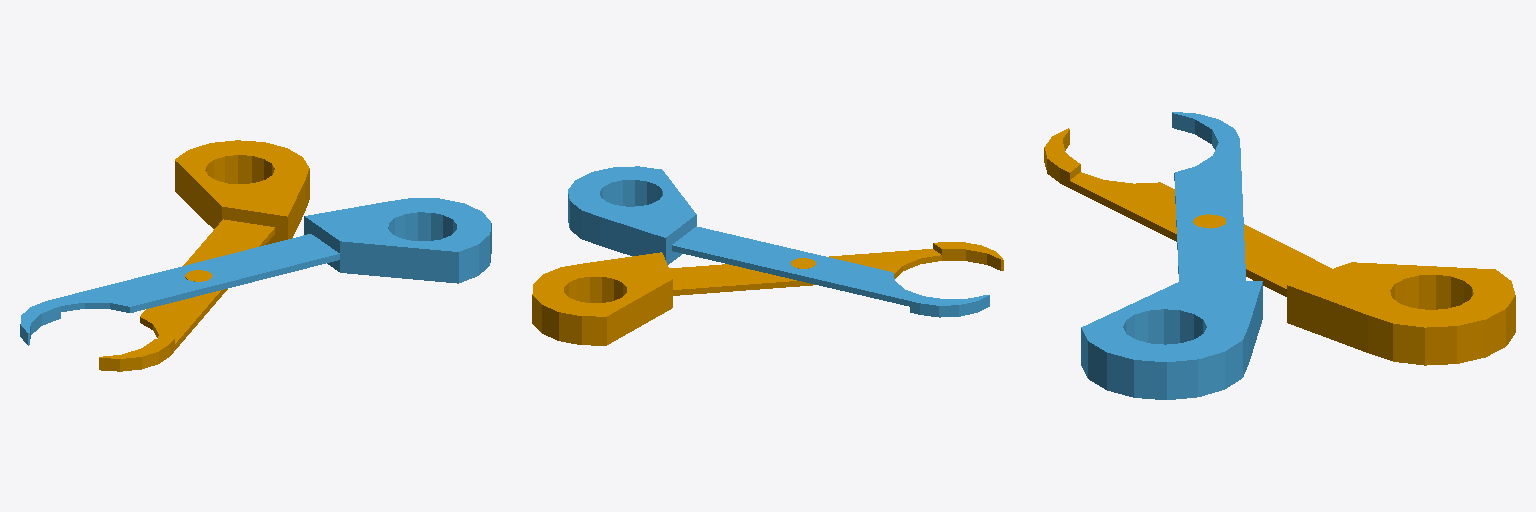
URDF robot description (scissor_11100):
<?xml version="1.0"?>
<robot name="scissor_11100">
  <link name="base_link">
    <inertial>
      <origin xyz="0 0 0" rpy="0 0 0"/>
      <mass value="1"/>
      <inertia ixx="0.001" ixy="0" ixz="0" iyy="0.001" iyz="0" izz="0.001"/>
    </inertial>
    <visual>
      <origin xyz="0 0 0" rpy="0 0 0"/>
      <geometry>
        <mesh filename="meshes/base_link.obj" scale="1 1 1"/>
      </geometry>
    </visual>
    <collision>
      <origin xyz="0 0 0" rpy="0 0 0"/>
      <geometry>
        <mesh filename="meshes/base_link.obj" scale="1 1 1"/>
      </geometry>
    </collision>
  </link>
  <link name="moving_link">
    <inertial>
      <origin xyz="0 0 0" rpy="0 0 0"/>
      <mass value="1"/>
      <inertia ixx="0.001" ixy="0" ixz="0" iyy="0.001" iyz="0" izz="0.001"/>
    </inertial>
    <visual>
      <origin xyz="0.309408835 -0.0006198229 -0.0216920003" rpy="0 0 0"/>
      <geometry>
        <mesh filename="meshes/moving_link.obj" scale="1 1 1"/>
      </geometry>
    </visual>
    <collision>
      <origin xyz="0.309408835 -0.0006198229 -0.0216920003" rpy="0 0 0"/>
      <geometry>
        <mesh filename="meshes/moving_link.obj" scale="1 1 1"/>
      </geometry>
    </collision>
  </link>
  <joint name="scissor_11100_joint" type="revolute">
    <parent link="base_link"/>
    <child link="moving_link"/>
    <origin xyz="-0.309408835 0.0006198229 0.0216920003" rpy="0 0 0"/>
    <axis xyz="0 0 1"/>
    <limit lower="-0.6981317008" upper="0" effort="100" velocity="10"/>
  </joint>
</robot>

--- What the picture shows (computed from the rendered views, not written in the file) ---
Views: 3 orthographic renders of the robot side by side, from view 1: azimuth 30°, elevation 25°; view 2: azimuth 150°, elevation 25°; view 3: azimuth 270°, elevation 25°.
Model scissor_11100 with 2 links and 1 joints (1 revolute), rooted at base_link, posed all joints at 0.
Visible links, largest first — view 1: moving_link, base_link; view 2: moving_link, base_link; view 3: base_link, moving_link.
Boxes of the visible links, x1,y1,x2,y2 form: moving_link: (20, 198, 491, 345); base_link: (99, 140, 309, 371); moving_link: (568, 166, 989, 317); base_link: (532, 242, 1003, 345); base_link: (1044, 128, 1515, 365); moving_link: (1081, 112, 1262, 399).
Bounding box of the posed robot: 1.76 × 1.31 × 0.1404 m (x, y, z).
2 mesh visuals loaded from 2 distinct referenced files (2 OBJ).
